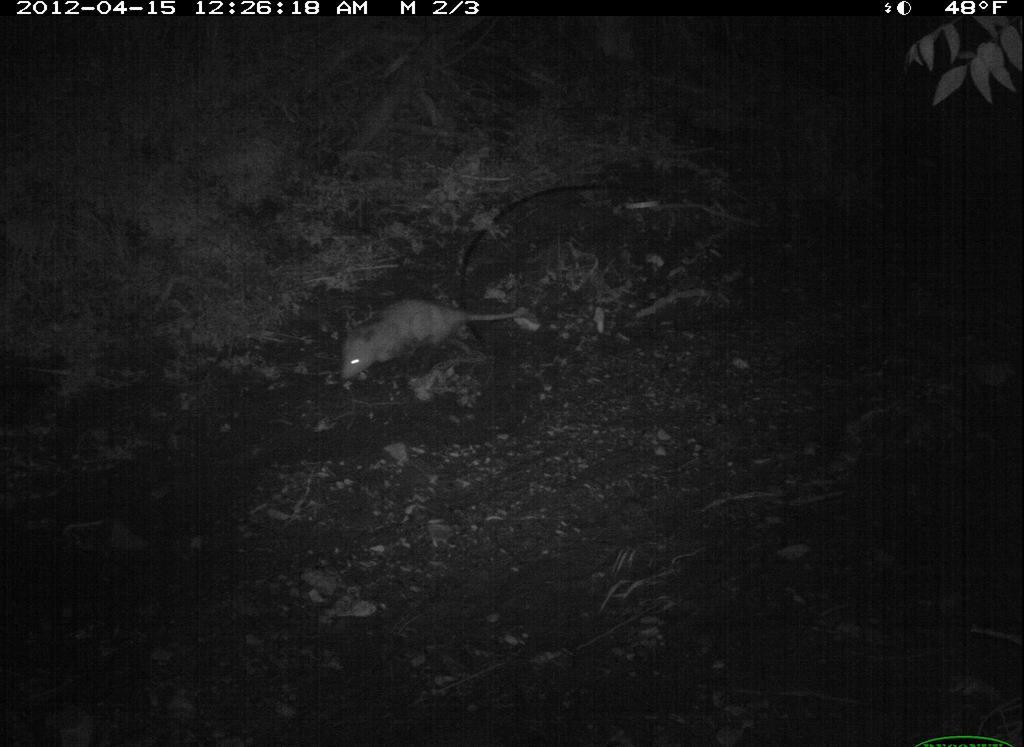opossum: (340, 281, 538, 387)
